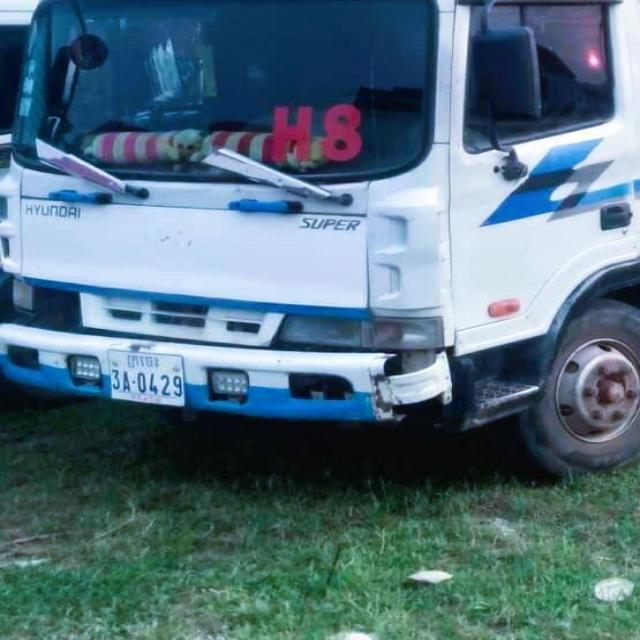Kratie: (124, 352, 163, 372)
